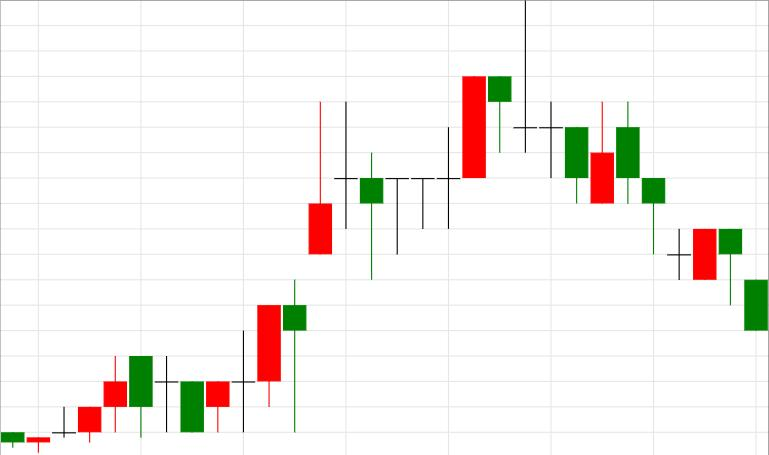hanging_man_fall: (206, 76, 511, 431)
